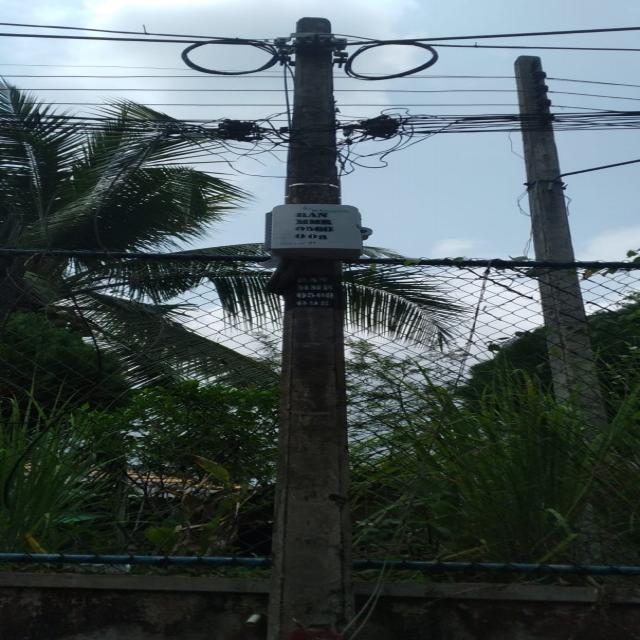light_pole: (255, 18, 372, 640), (497, 41, 640, 473)
